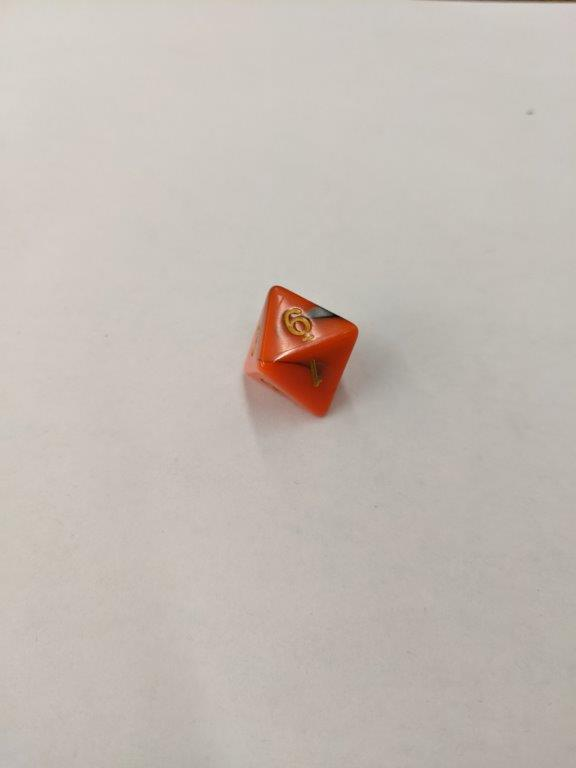d8-6: (241, 283, 358, 426)
